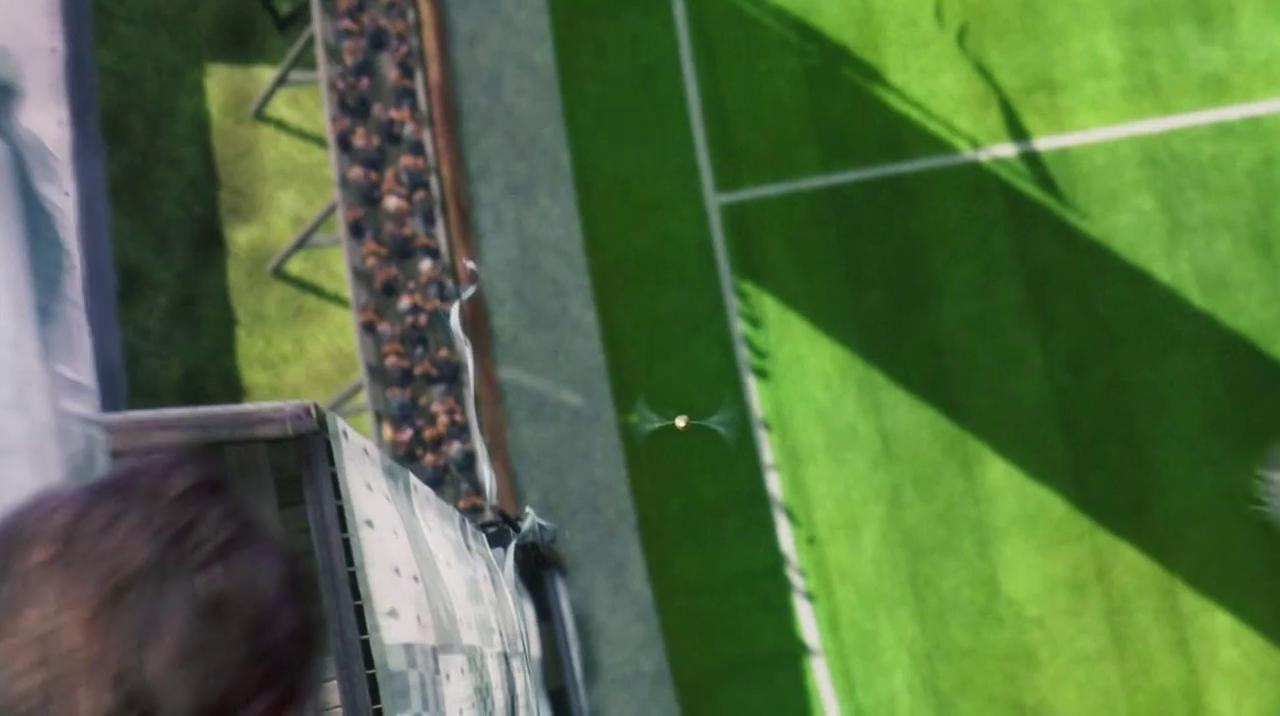snitch: (672, 408, 693, 434)
